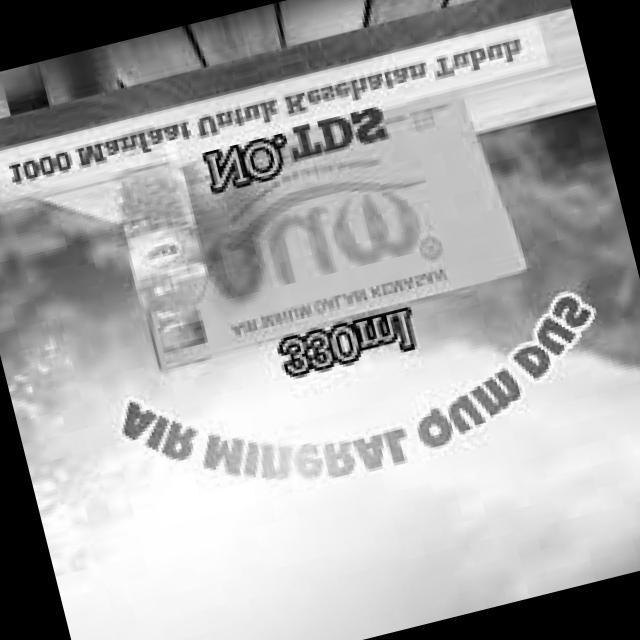good: (91, 129, 240, 364)
